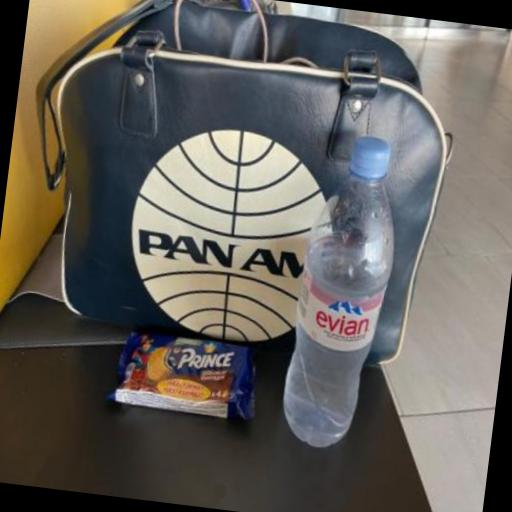Coca: (274, 124, 414, 458)
